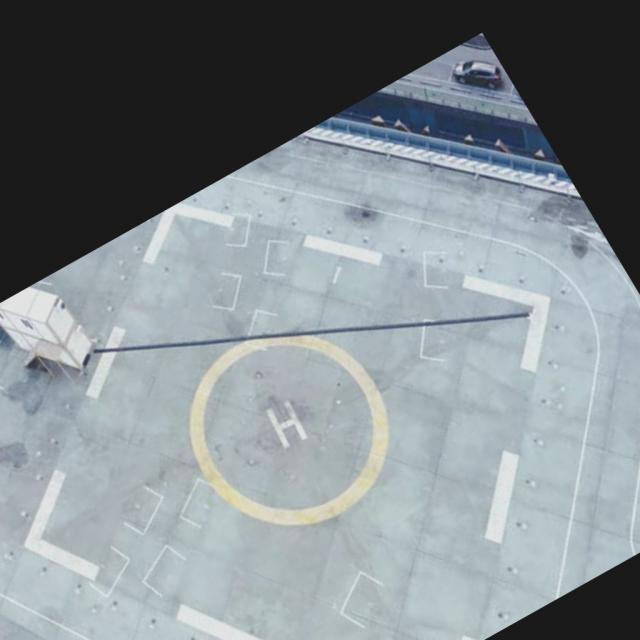helipad: (186, 330, 391, 530)
